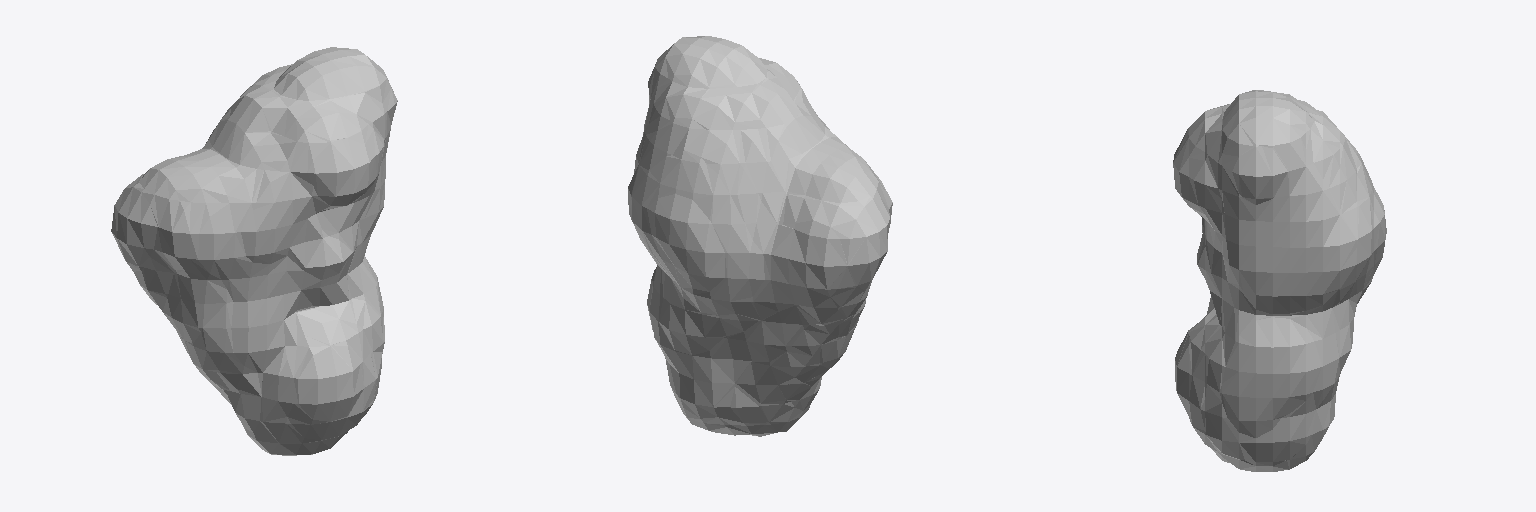
File: 1n77_1_cms.obj
The picture shows the model from 3 angles: view 1: azimuth 30°, elevation 25°; view 2: azimuth 150°, elevation 25°; view 3: azimuth 270°, elevation 25°; orthographic projection.
Size of the model in its own units: 88.95 by 128 by 65.49.